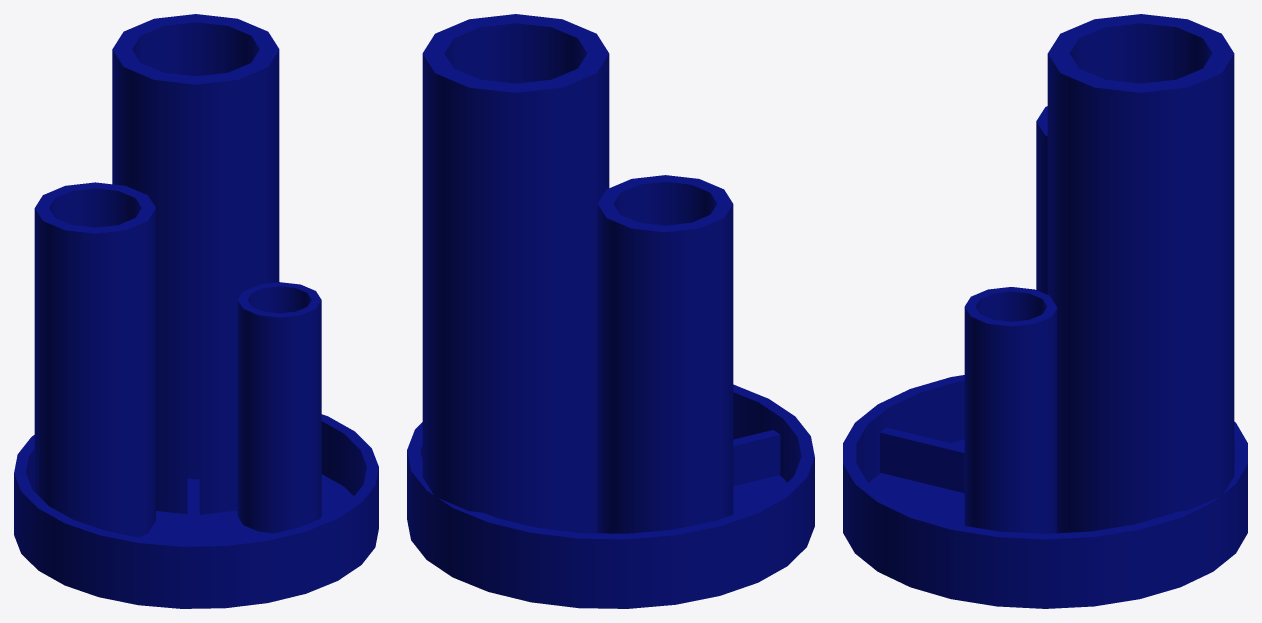
The model's file is Stationery Holder.FBX.
The picture shows the model from 3 angles, left to right: view 1: azimuth 30°, elevation 25°; view 2: azimuth 150°, elevation 25°; view 3: azimuth 270°, elevation 25°; orthographic projection. The views are drawn at different scales.
Visible parts, largest first — view 1: Cylinder001, Cylinder002, Cylinder004, Cylinder003, Box001; view 2: Cylinder001, Cylinder002, Cylinder004, Box001; view 3: Cylinder001, Cylinder004, Cylinder003, Box001, Cylinder002.
Part boxes in pixels (x1=…): Cylinder001: x1=112, y1=14, x2=279, y2=514; Cylinder002: x1=34, y1=182, x2=155, y2=537; Cylinder004: x1=14, y1=414, x2=378, y2=608; Cylinder003: x1=237, y1=282, x2=321, y2=533; Box001: x1=187, y1=478, x2=199, y2=541; Cylinder001: x1=422, y1=14, x2=609, y2=555; Cylinder002: x1=597, y1=175, x2=733, y2=533; Cylinder004: x1=407, y1=384, x2=814, y2=608; Box001: x1=733, y1=430, x2=780, y2=486; Cylinder001: x1=1047, y1=14, x2=1234, y2=554; Cylinder004: x1=843, y1=375, x2=1247, y2=608; Cylinder003: x1=964, y1=287, x2=1057, y2=533; Box001: x1=880, y1=427, x2=964, y2=493; Cylinder002: x1=1036, y1=106, x2=1047, y2=294.
Bounding box in the file's own units: 321 × 428 × 319.
